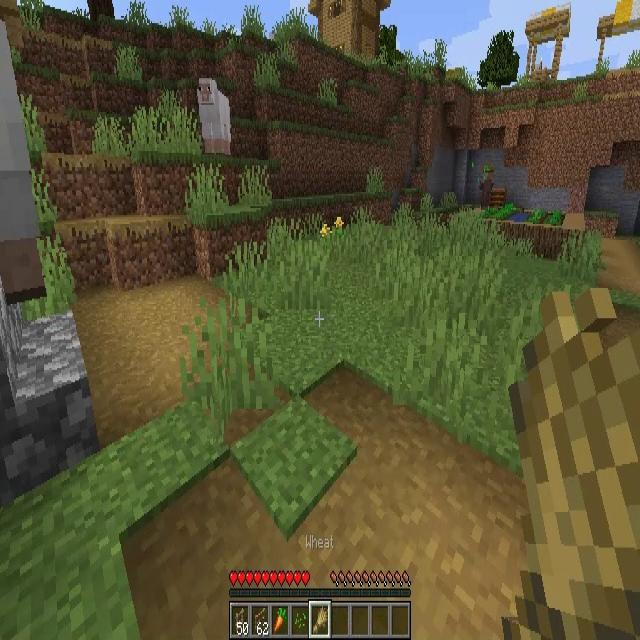sheep: (196, 78, 230, 158)
